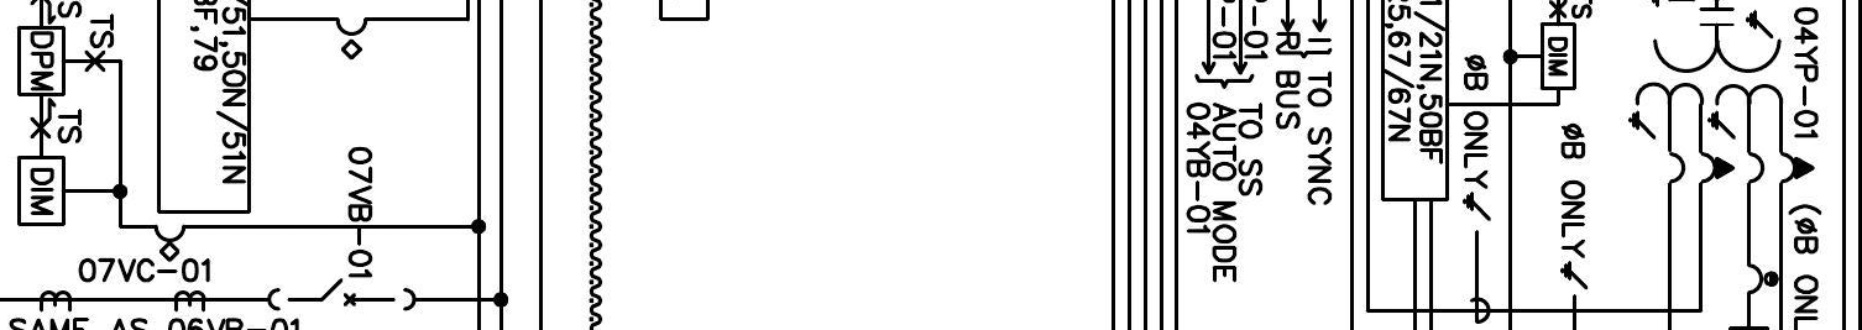115_cvt_1p: (1627, 6, 1816, 186)
22_breaker: (266, 278, 417, 311)
DIM: (17, 156, 66, 227), (1540, 23, 1577, 90)
DPM: (17, 26, 66, 96)
